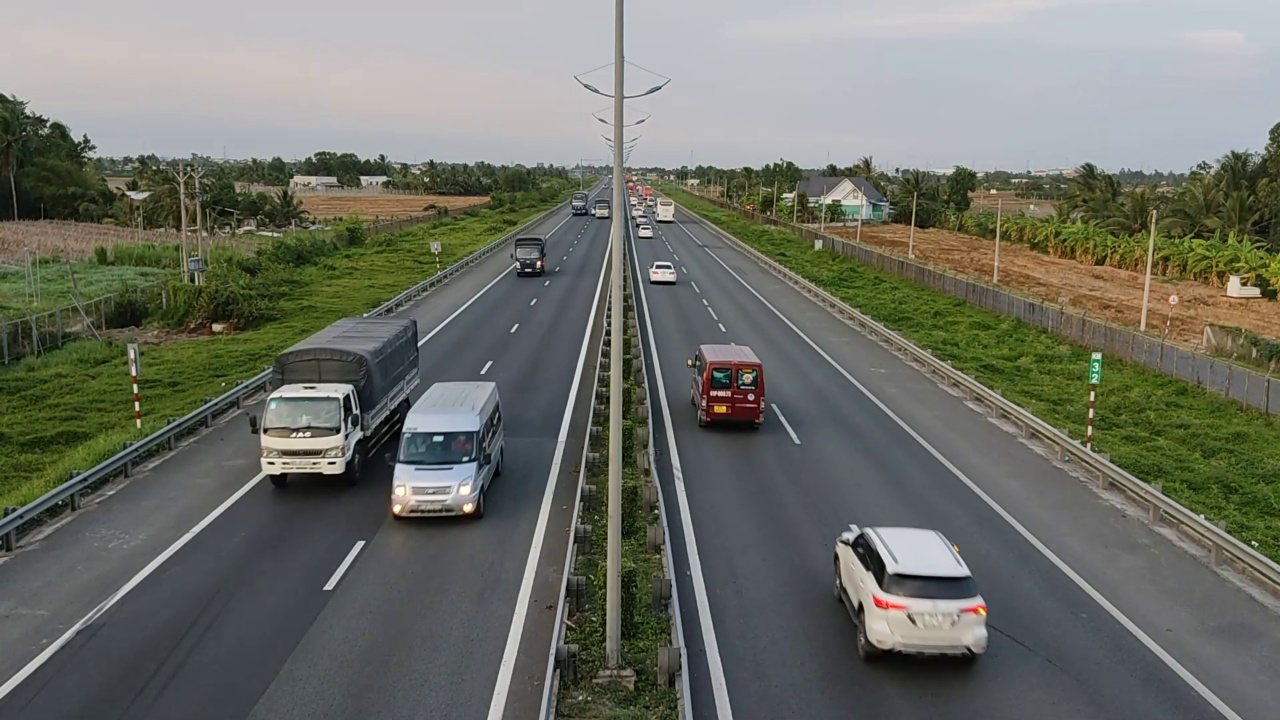car: (833, 523, 989, 661), (390, 379, 507, 520), (687, 342, 767, 429), (648, 261, 677, 285)
truck: (257, 315, 422, 489), (513, 237, 547, 275)
